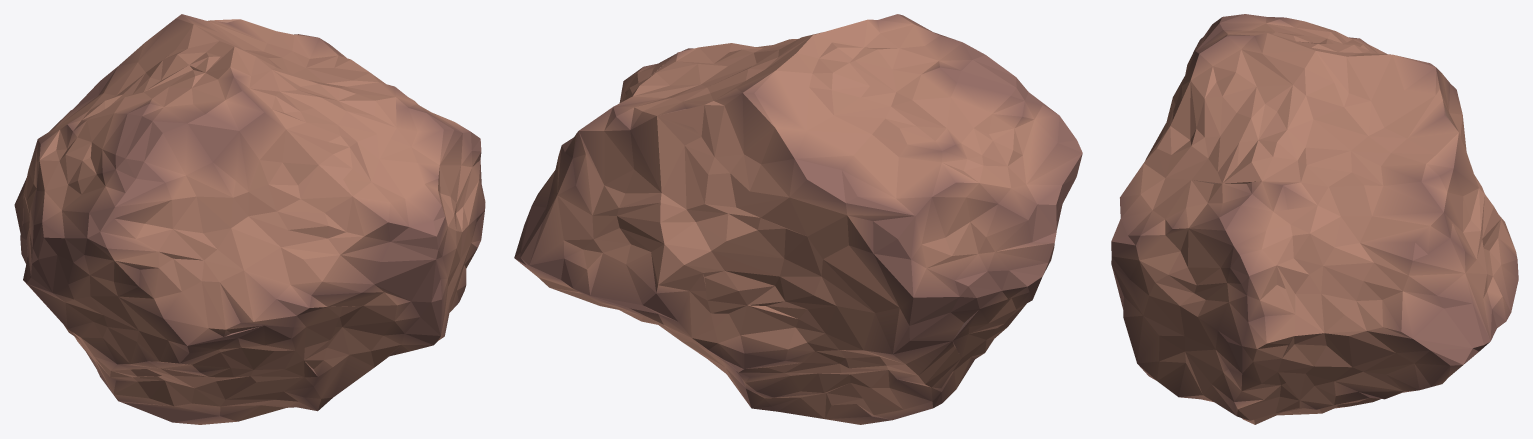
File: Meteorite5(broken).fbx
The picture shows the model from 3 angles, left to right: view 1: azimuth 30°, elevation 25°; view 2: azimuth 150°, elevation 25°; view 3: azimuth 270°, elevation 25°; orthographic projection. The views are drawn at different scales.
Visible parts, largest first — view 1: Meteorite8, Meteorite11, Meteorite9, Meteorite12, Meteorite10, Meteorite7; view 2: Meteorite11, Meteorite13, Meteorite6, Meteorite10, Meteorite9, Meteorite7, Meteorite8; view 3: Meteorite10, Meteorite13, Meteorite12, Meteorite8, Meteorite11, Meteorite7.
Boxes of the visible parts, x1,y1,x2,y2 form: Meteorite8: (84, 112, 408, 338); Meteorite11: (20, 18, 263, 302); Meteorite9: (23, 255, 317, 422); Meteorite12: (371, 97, 485, 355); Meteorite10: (163, 14, 416, 181); Meteorite7: (173, 292, 400, 424); Meteorite11: (743, 16, 1082, 298); Meteorite13: (514, 63, 794, 369); Meteorite6: (663, 197, 979, 414); Meteorite10: (579, 14, 913, 161); Meteorite9: (872, 277, 1042, 419); Meteorite7: (708, 359, 892, 424); Meteorite8: (940, 35, 1082, 152); Meteorite10: (1165, 33, 1460, 242); Meteorite13: (1262, 67, 1518, 409); Meteorite12: (1111, 162, 1299, 420); Meteorite8: (1120, 17, 1221, 217); Meteorite11: (1196, 14, 1462, 113); Meteorite7: (1241, 398, 1380, 424).
Size of the model in its own units: 2641 by 2124 by 2113.
